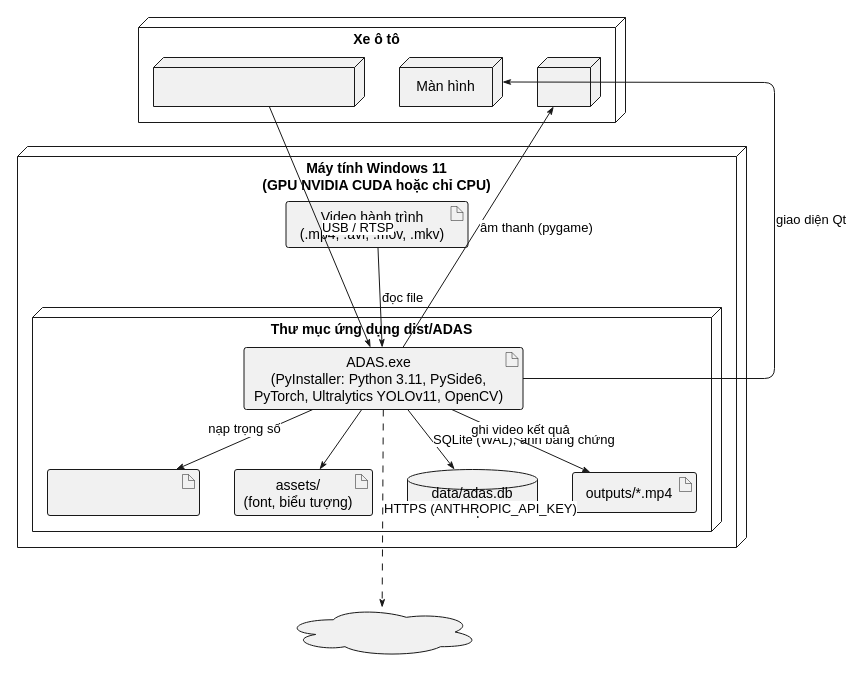
This 864x674 diagram has some shape labels left out. The box of each missing label's shape, as (x1, y1, x2, y2) in pixels:
Anthropic Claude API (tùy chọn, mặc định tắt): (284, 606, 480, 656)
Camera hành trình USB (0-4) / IP (RTSP, HTTP): (152, 56, 364, 106)
Loa: (536, 56, 600, 106)
models/best.pt models/yolo11n.pt: (46, 468, 200, 516)
